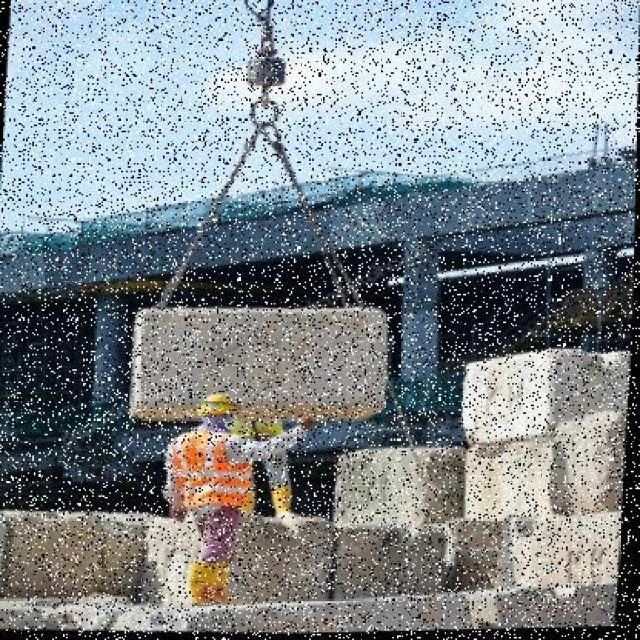vest: (168, 422, 265, 513)
